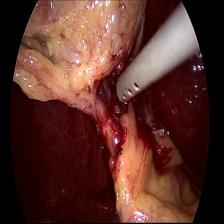Irrigator: (114, 45, 154, 114)
